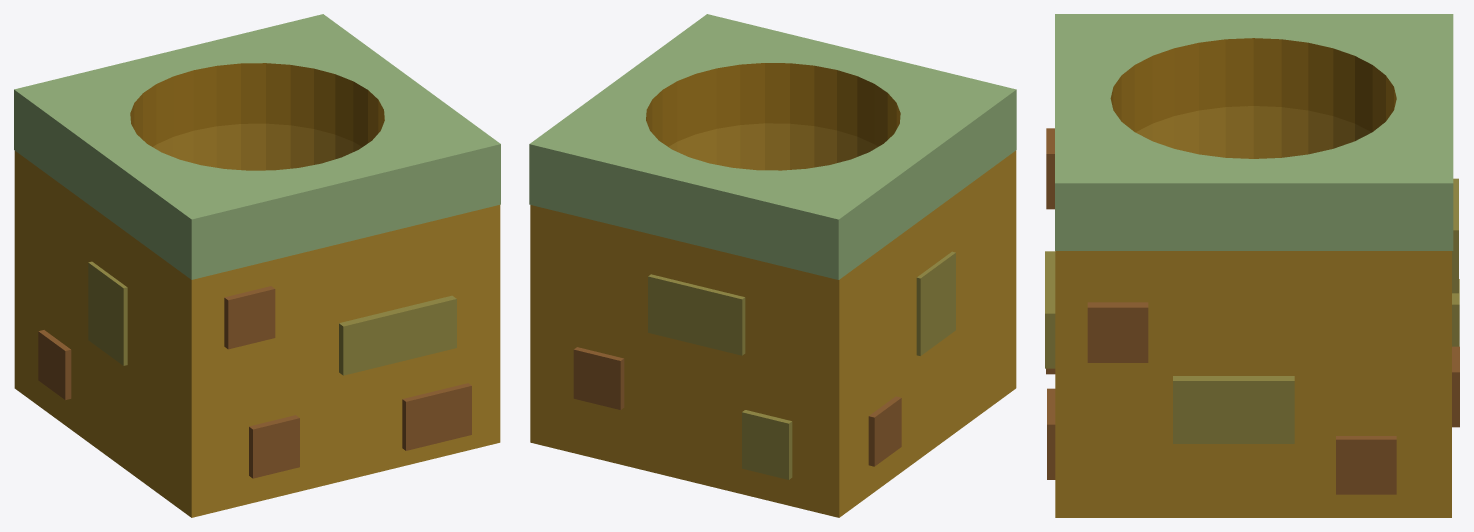
File: grass block bolong.fbx
The picture shows the model from 3 angles, left to right: view 1: azimuth 30°, elevation 25°; view 2: azimuth 150°, elevation 25°; view 3: azimuth 270°, elevation 25°; orthographic projection. The views are drawn at different scales.
Visible parts, largest first — view 1: Cube; view 2: Cube; view 3: Cube.
Part boxes in pixels (x1,y1,x2,y2): Cube: (14,14,500,517); Cube: (529,14,1016,517); Cube: (1045,14,1459,517).
Size of the model in its own units: 162 by 142 by 159.
